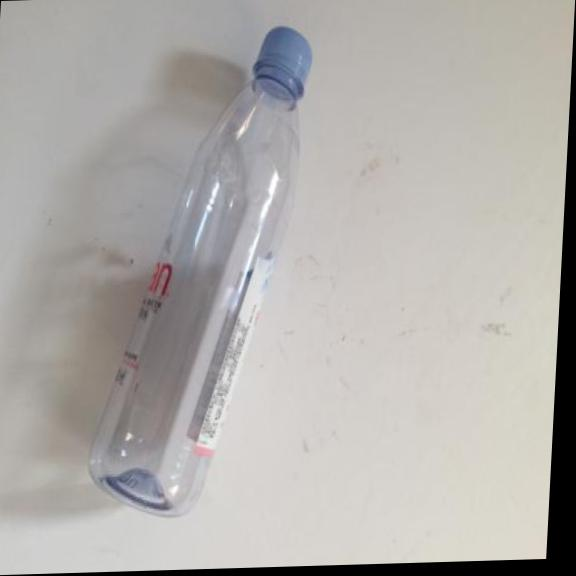Plastik: (78, 16, 323, 533)
